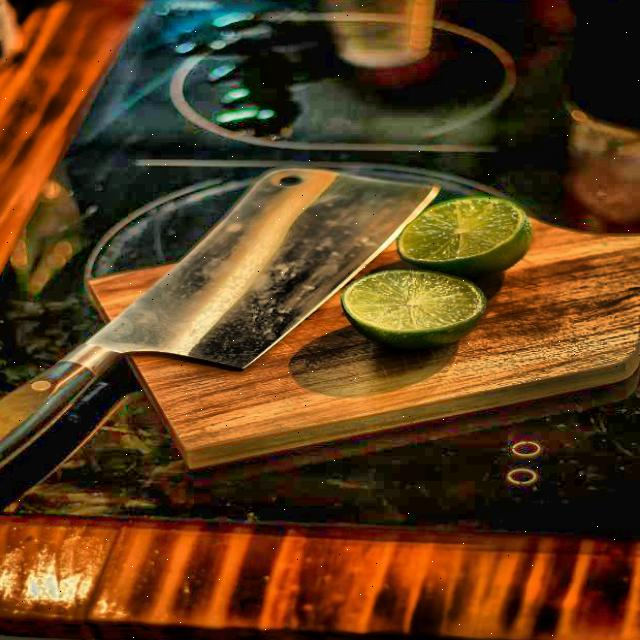knife: (0, 157, 453, 465)
